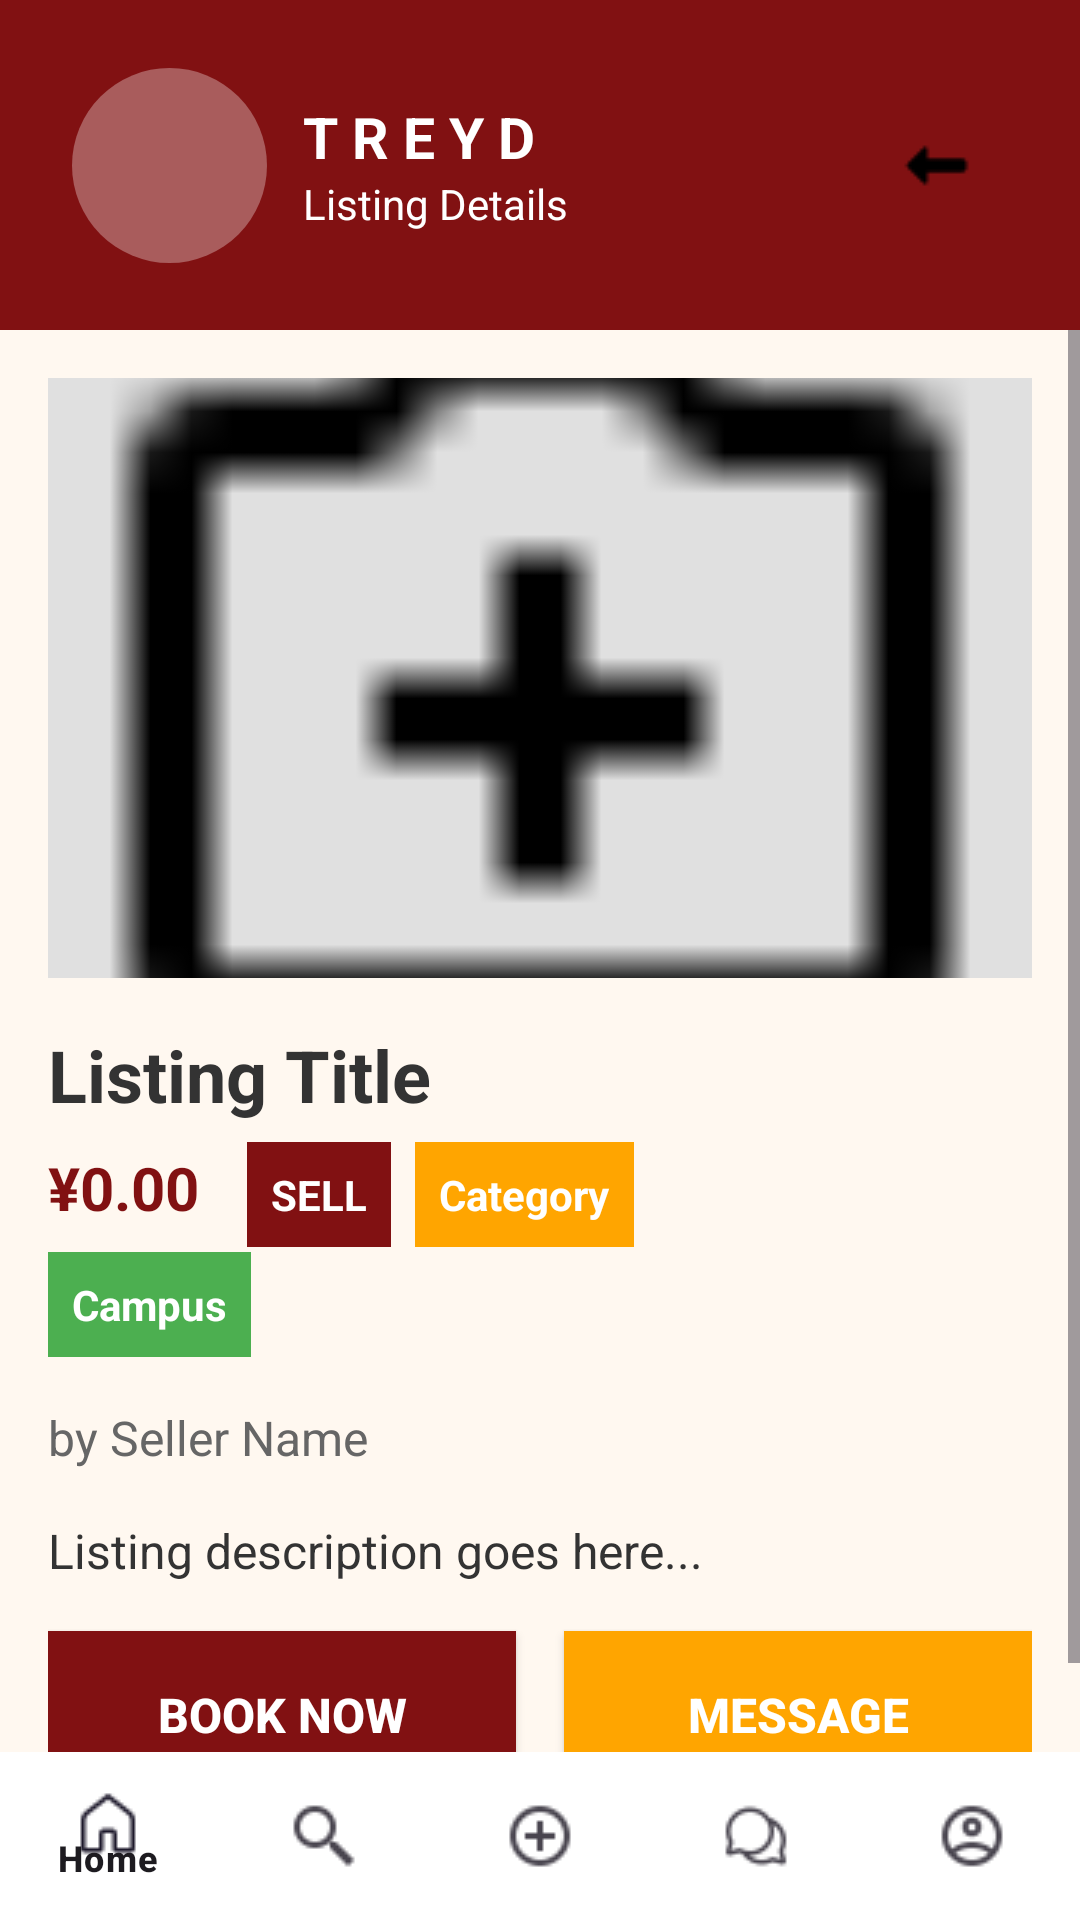

Point at icon controls on the screen. Image size 1080*1920, points as point (x, y).
back: point (936, 165)
